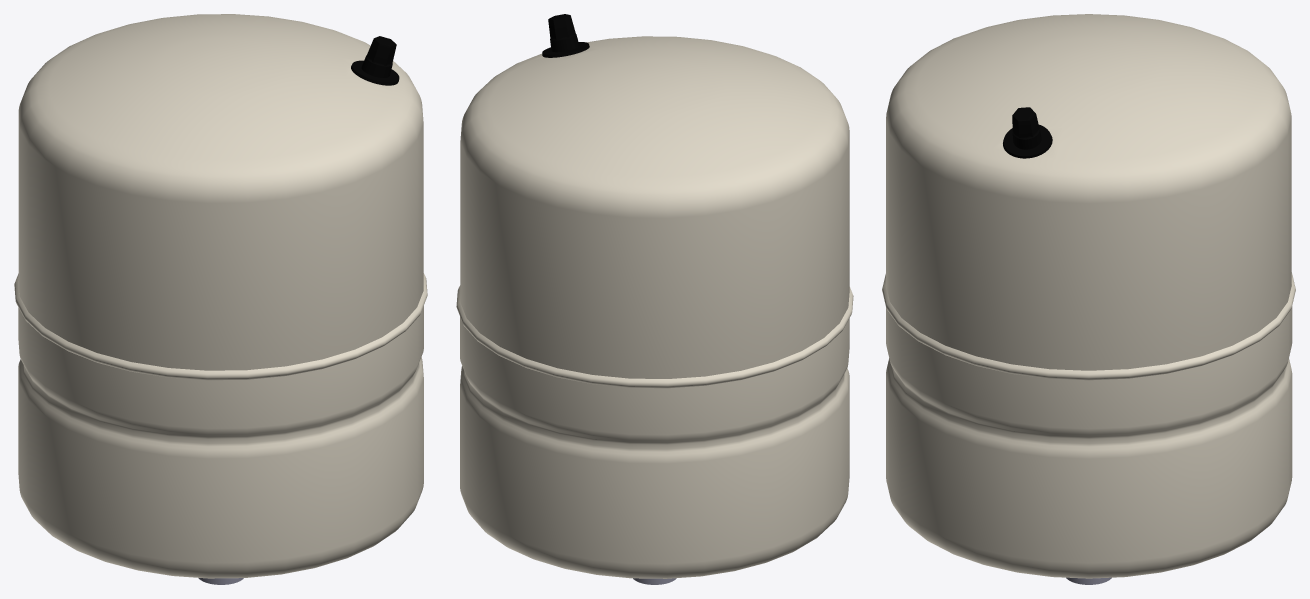
File: 19lt-sabit-dikey-tank.fbx
3 renders of one model, left to right at view 1: azimuth 30°, elevation 25°; view 2: azimuth 150°, elevation 25°; view 3: azimuth 270°, elevation 25°, orthographic. The views are drawn at different scales.
Parts seen in each view (by area): view 1: 19lt-sabit-dikey-tank.008, 19lt-sabit-dikey-tank.002, 19lt-sabit-dikey-tank.005, 19lt-sabit-dikey-tank.001; view 2: 19lt-sabit-dikey-tank.008, 19lt-sabit-dikey-tank.002, 19lt-sabit-dikey-tank.005, 19lt-sabit-dikey-tank.001; view 3: 19lt-sabit-dikey-tank.008, 19lt-sabit-dikey-tank.002, 19lt-sabit-dikey-tank.005, 19lt-sabit-dikey-tank.001.
Boxes of the visible parts, box(x1,y1,x2,y2) form: 19lt-sabit-dikey-tank.008: box(18, 14, 423, 370); 19lt-sabit-dikey-tank.002: box(18, 306, 423, 578); 19lt-sabit-dikey-tank.005: box(14, 273, 427, 380); 19lt-sabit-dikey-tank.001: box(351, 36, 399, 85); 19lt-sabit-dikey-tank.008: box(460, 36, 849, 378); 19lt-sabit-dikey-tank.002: box(460, 317, 849, 578); 19lt-sabit-dikey-tank.005: box(456, 285, 853, 388); 19lt-sabit-dikey-tank.001: box(542, 14, 589, 57); 19lt-sabit-dikey-tank.008: box(886, 14, 1291, 370); 19lt-sabit-dikey-tank.002: box(886, 306, 1292, 578); 19lt-sabit-dikey-tank.005: box(882, 272, 1295, 380); 19lt-sabit-dikey-tank.001: box(1003, 107, 1052, 158).
Size of the model in its own units: 1787 by 2513 by 1787.
